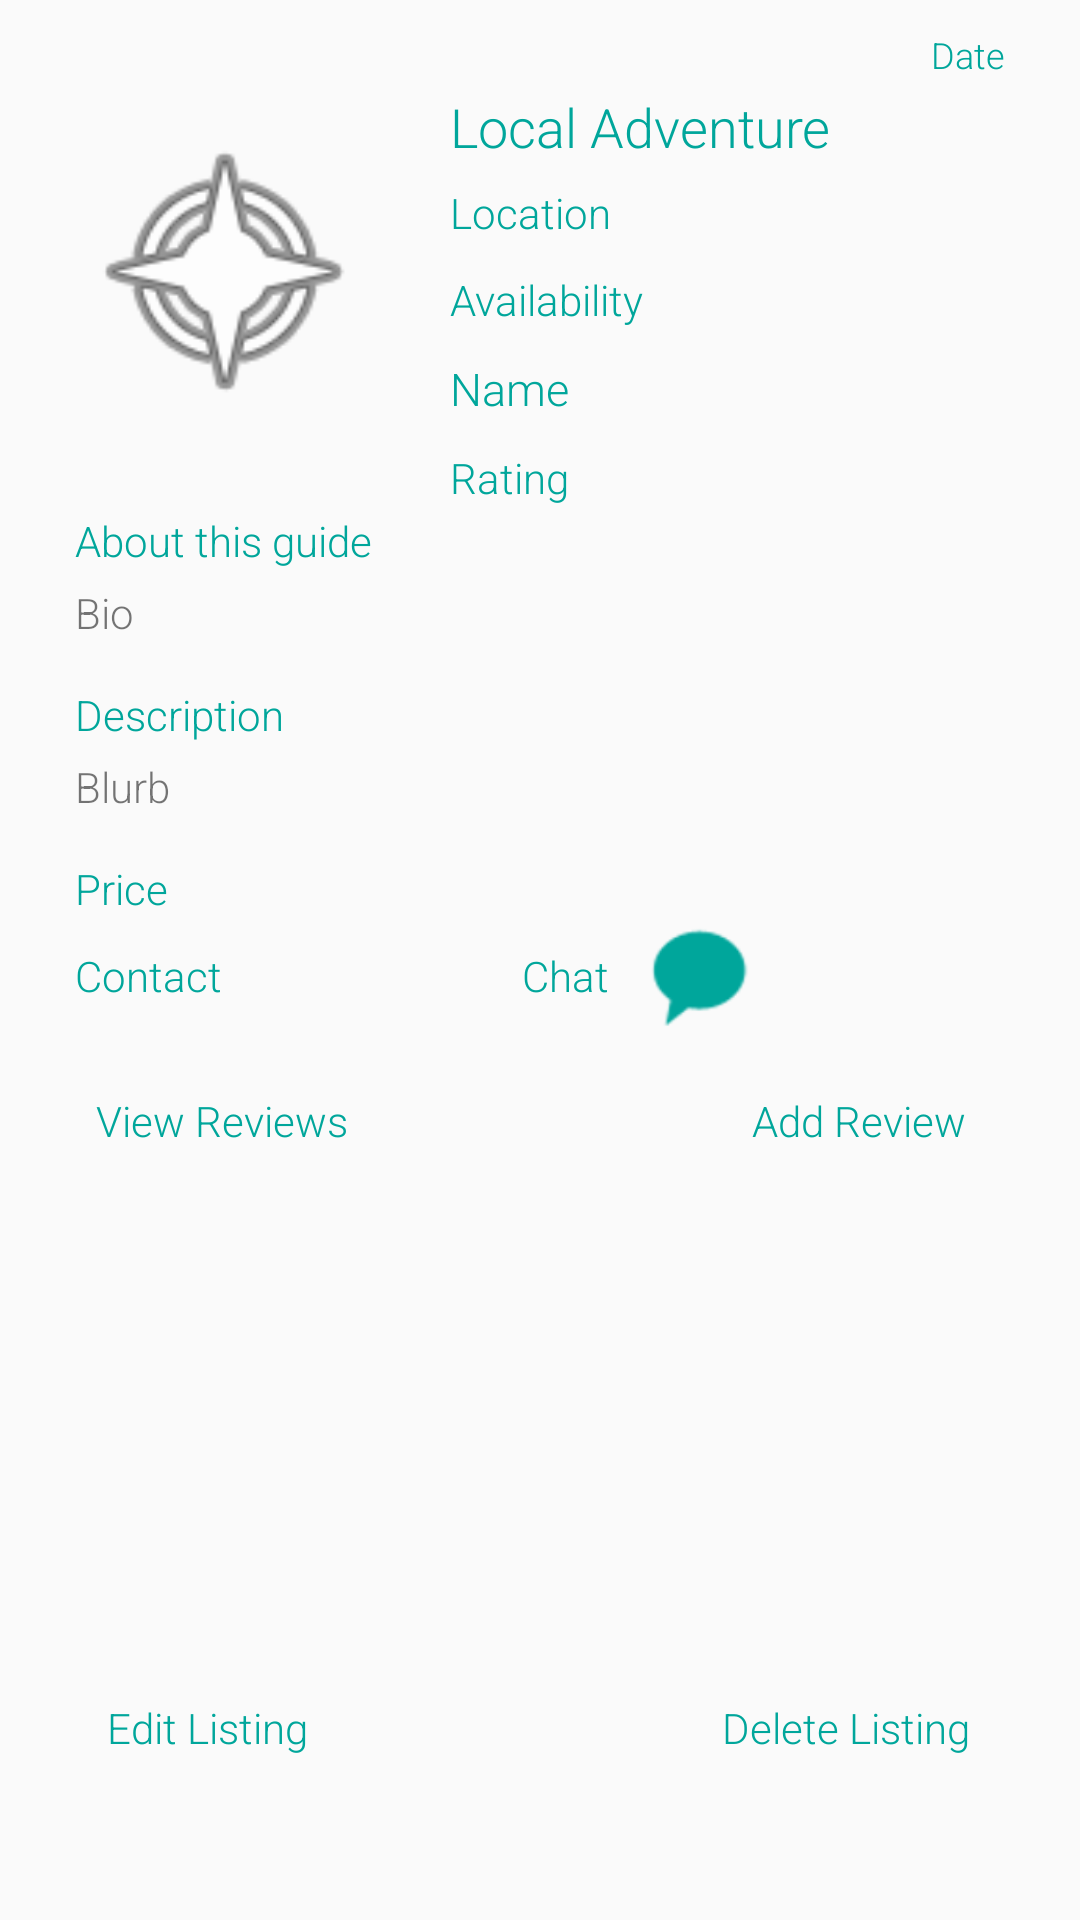

Icon click points for this 1080*1920 phone screenshot, format (x,y):
compass: (224,271)
